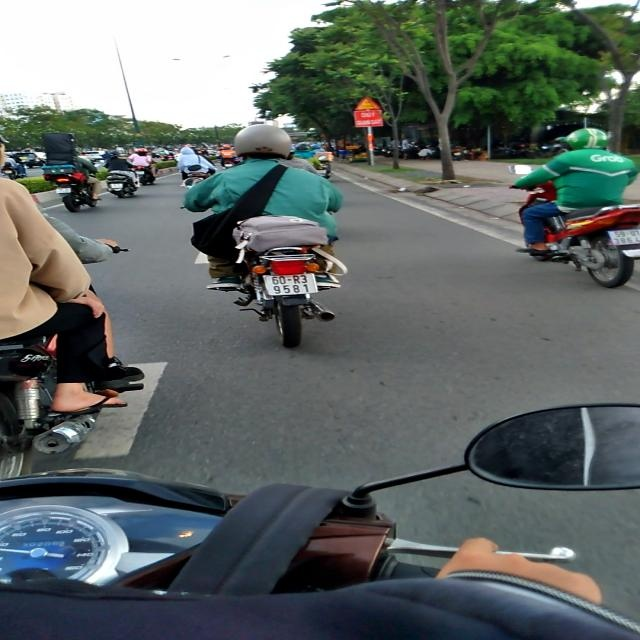bien_nguy_hiem: (354, 96, 382, 110)
